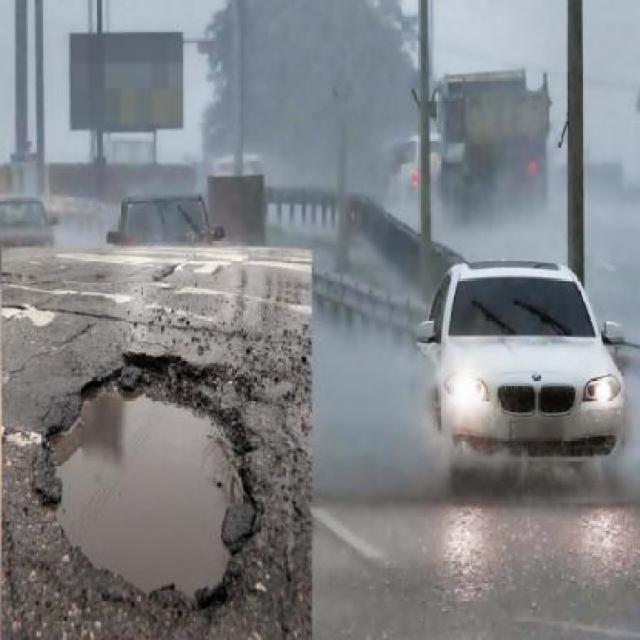Pothole: (41, 342, 267, 622)
